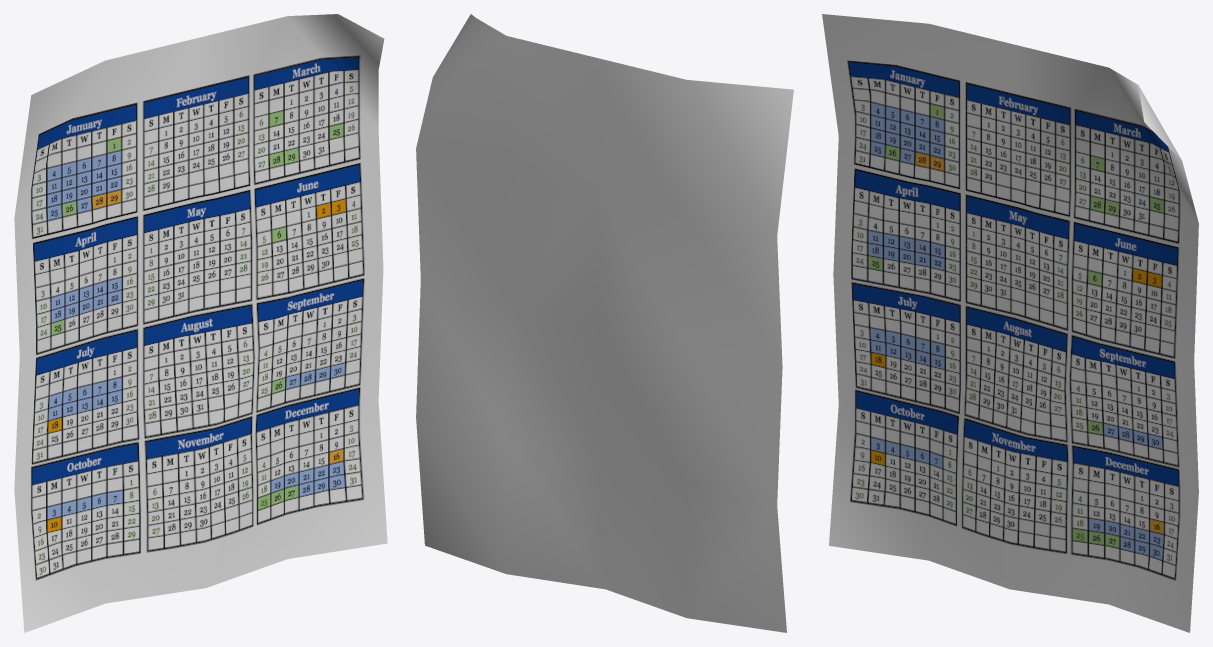
The model's file is Calendar.FBX.
3 views of the same model, side by side, from view 1: azimuth 30°, elevation 25°; view 2: azimuth 150°, elevation 25°; view 3: azimuth 330°, elevation 25° (orthographic).
Parts seen in each view (by area): view 1: Calendar; view 2: Calendar; view 3: Calendar.
Part boxes in pixels (x1,y1,x2,y2): Calendar: (14, 14, 387, 632); Calendar: (416, 14, 793, 632); Calendar: (822, 14, 1198, 632).
Size of the model in its own units: 66.88 by 95.3 by 9.78.
Materials: 1 (1 with a texture image).
